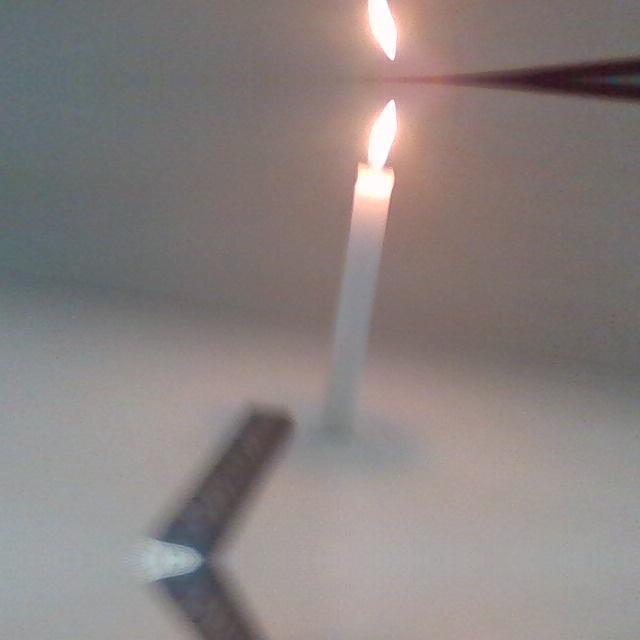smoke: (366, 98, 402, 174), (365, 0, 402, 62)
